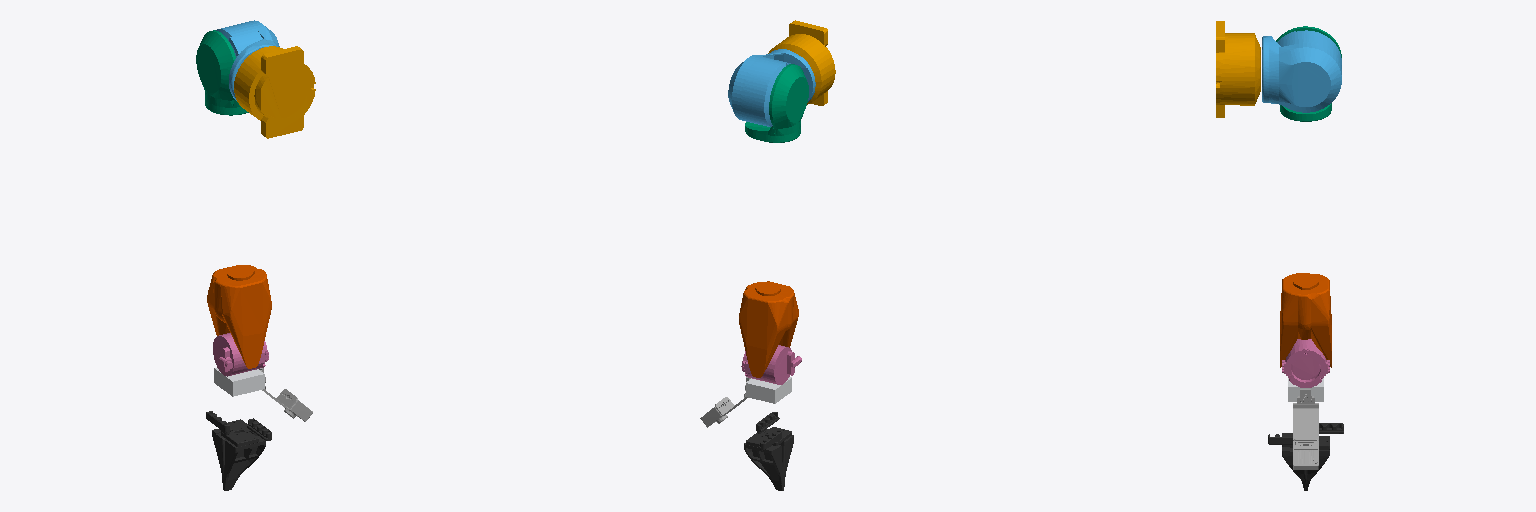
The robot description file, URDF, robot "openarm_v2_left_arm":
<?xml version="1.0"?>
<!-- OpenArm v2.0 left arm (enactic/openarm_description, Apache-2.0; README.md) with the Anvil OpenArm 2.0's joint ranges (J1: Enactic's window) and Anvil's Customizable Gripper. GENERATED by build_urdf.py: do not edit. -->
<robot name="openarm_v2_left_arm">
  <link name="base_link">
    <inertial>
      <origin rpy="0 0 0" xyz="0.00253123748061566 0.0258185540330169 2.70658291858903e-05" />
      <mass value="1.1432284943239561" />
      <inertia ixx="0.00113607806226198" ixy="-3.81487993180929e-07" ixz="1.09161247709715e-08" iyy="0.00159935208714031" iyz="-2.7521421737084e-08" izz="0.000750541980863571" />
    </inertial>
    <visual>
      <origin xyz="0 0 0" rpy="0 0 0" />
      <geometry>
        <mesh filename="../meshes/collision/left_base_link.stl" />
      </geometry>
    </visual>
    <collision>
      <origin xyz="0 0 0" rpy="0 0 0" />
      <geometry>
        <mesh filename="../meshes/collision/left_base_link.stl" />
      </geometry>
    </collision>
  </link>
  <link name="link1">
    <inertial>
      <origin rpy="0 0 0" xyz="0.000900350355624244 0.0444659716892874 2.88441021165683e-05" />
      <mass value="1.1416684646202298" />
      <inertia ixx="0.0010943212038551" ixy="-9.41628673674543e-06" ixz="4.53422182483102e-08" iyy="0.000759199728161993" iyz="-6.66755698859637e-08" izz="0.000670659201019629" />
    </inertial>
    <visual>
      <origin xyz="0 0 0" rpy="0 0 0" />
      <geometry>
        <mesh filename="../meshes/collision/left_link1.stl" />
      </geometry>
    </visual>
    <collision>
      <origin xyz="0 0 0" rpy="0 0 0" />
      <geometry>
        <mesh filename="../meshes/collision/left_link1.stl" />
      </geometry>
    </collision>
  </link>
  <link name="link2">
    <inertial>
      <origin rpy="0 0 0" xyz="-0.0247184924346635 -7.60578399428002e-08 -0.0312643102292087" />
      <mass value="0.2775092746011571" />
      <inertia ixx="0.000153588833784759" ixy="2.94422592188677e-10" ixz="5.21056076779068e-06" iyy="0.000113062180225725" iyz="-3.75816911469744e-10" izz="8.22999351863579e-05" />
    </inertial>
    <visual>
      <origin xyz="0 0 0" rpy="0 0 0" />
      <geometry>
        <mesh filename="../meshes/collision/left_link2.stl" />
      </geometry>
    </visual>
    <collision>
      <origin xyz="0 0 0" rpy="0 0 0" />
      <geometry>
        <mesh filename="../meshes/collision/left_link2.stl" />
      </geometry>
    </collision>
  </link>
  <link name="link3">
    <inertial>
      <origin rpy="0 0 0" xyz="-0.00300861804638783 -0.000514813312550808 -0.109368241429434" />
      <mass value="1.073863338202347" />
      <inertia ixx="0.00128939636591746" ixy="-2.29951046666492e-07" ixz="-6.76161926984358e-05" iyy="0.00114018992179734" iyz="-1.06260802872572e-05" izz="0.000559765478676303" />
    </inertial>
    <visual>
      <origin xyz="0 0 0" rpy="0 0 0" />
      <geometry>
        <mesh filename="../meshes/collision/link3.stl" />
      </geometry>
    </visual>
    <collision>
      <origin xyz="0 0 0" rpy="0 0 0" />
      <geometry>
        <mesh filename="../meshes/collision/link3.stl" />
      </geometry>
    </collision>
  </link>
  <link name="link4">
    <inertial>
      <origin rpy="0 0 0" xyz="-0.00310326243752606 -0.00136538979048502 -0.0574601379354351" />
      <mass value="0.6348534566833373" />
      <inertia ixx="0.0004690036047182" ixy="5.63626910265645e-06" ixz="-1.77877991597693e-06" iyy="0.000433926270522842" iyz="3.41757797773822e-06" izz="0.000245211429759716" />
    </inertial>
    <visual>
      <origin xyz="0 0 0" rpy="0 0 0" />
      <geometry>
        <mesh filename="../meshes/collision/link4.stl" />
      </geometry>
    </visual>
    <collision>
      <origin xyz="0 0 0" rpy="0 0 0" />
      <geometry>
        <mesh filename="../meshes/collision/link4.stl" />
      </geometry>
    </collision>
  </link>
  <link name="link5">
    <inertial>
      <origin rpy="0 0 0" xyz="-0.000737188580130584 0.000412406544351845 -0.047093829077211" />
      <mass value="0.6156588026168502" />
      <inertia ixx="0.000279653368752989" ixy="-3.31745289972445e-06" ixz="7.68097311403736e-07" iyy="0.000334599623120095" iyz="1.49934409279756e-07" izz="0.000176662464388138" />
    </inertial>
    <visual>
      <origin xyz="0 0 0" rpy="0 0 0" />
      <geometry>
        <mesh filename="../meshes/collision/left_link5.stl" />
      </geometry>
    </visual>
    <collision>
      <origin xyz="0 0 0" rpy="0 0 0" />
      <geometry>
        <mesh filename="../meshes/collision/left_link5.stl" />
      </geometry>
    </collision>
  </link>
  <link name="link6">
    <inertial>
      <origin rpy="0 0 0" xyz="2.27438423593244e-05 -0.00068649602098908 5.44000494765995e-05" />
      <mass value="0.475202773187987" />
      <inertia ixx="0.000179275941446964" ixy="-6.58439346712228e-08" ixz="-3.37101167120887e-08" iyy="0.000136247512758587" iyz="-3.32253600295544e-08" izz="0.000135340695937386" />
    </inertial>
    <visual>
      <origin xyz="0 0 0" rpy="0 0 0" />
      <geometry>
        <mesh filename="../meshes/collision/left_link6.stl" />
      </geometry>
    </visual>
    <collision>
      <origin xyz="0 0 0" rpy="0 0 0" />
      <geometry>
        <mesh filename="../meshes/collision/left_link6.stl" />
      </geometry>
    </collision>
  </link>
  <link name="link7">
    <inertial>
      <origin xyz="0 0 0" rpy="0 0 0" />
      <mass value="0.001" />
      <inertia ixx="1e-07" ixy="0" ixz="0" iyy="1e-07" iyz="0" izz="1e-07" />
    </inertial>
    <visual name="flange_adapter">
      <origin xyz="0 0 -0.0398" rpy="0 0 0" />
      <geometry>
        <box size="0.05 0.05 0.0226" />
      </geometry>
      <material name="flange_adapter">
        <color rgba="0.88 0.89 0.9 1" />
      </material>
    </visual>
    <collision name="flange_adapter">
      <origin xyz="0 0 -0.0398" rpy="0 0 0" />
      <geometry>
        <box size="0.05 0.05 0.0226" />
      </geometry>
    </collision>
  </link>
  <joint name="joint1" type="revolute">
    <origin xyz="0 0.0625 0" rpy="0 0 0" />
    <parent link="base_link" />
    <child link="link1" />
    <axis xyz="0 1 0" />
    <limit lower="-3.4907" upper="1.3963" effort="40" velocity="10.47" />
  </joint>
  <joint name="joint2" type="revolute">
    <origin xyz="0 0.0600000000000001 0" rpy="0 0 0" />
    <parent link="link1" />
    <child link="link2" />
    <axis xyz="-1 0 0" />
    <limit lower="-3.3161" upper="0.1745" effort="40" velocity="10.47" />
  </joint>
  <joint name="joint3" type="revolute">
    <origin xyz="0 0 -0.0662500000000008" rpy="0 0 0" />
    <parent link="link2" />
    <child link="link3" />
    <axis xyz="0 0 -1" />
    <limit lower="-1.570796" upper="1.570796" effort="27" velocity="3.77" />
  </joint>
  <joint name="joint4" type="revolute">
    <origin xyz="0 0 -0.15375" rpy="0 0 0" />
    <parent link="link3" />
    <child link="link4" />
    <axis xyz="0 -1 0" />
    <limit lower="0" upper="2.443461" effort="27" velocity="3.77" />
  </joint>
  <joint name="joint5" type="revolute">
    <origin xyz="0 0 -0.0955000000000005" rpy="0 0 0" />
    <parent link="link4" />
    <child link="link5" />
    <axis xyz="0 0 -1" />
    <limit lower="-1.570796" upper="1.570796" effort="7" velocity="12.57" />
  </joint>
  <joint name="joint6" type="revolute">
    <origin xyz="0 0 -0.120499999999998" rpy="0 0 0" />
    <parent link="link5" />
    <child link="link6" />
    <axis xyz="0 -1 0" />
    <limit lower="-0.785398" upper="1.22173" effort="7" velocity="12.57" />
  </joint>
  <joint name="joint7" type="revolute">
    <origin xyz="0 0 0" rpy="0 0 0" />
    <parent link="link6" />
    <child link="link7" />
    <axis xyz="1 0 0" />
    <limit lower="-1.570796" upper="1.570796" effort="7" velocity="12.57" />
  </joint>
  <joint name="end_joint" type="fixed">
    <origin xyz="0 0 -0.2026" rpy="0 1.57079633 0" />
    <parent link="link7" />
    <child link="end_link" />
  </joint>
  <link name="end_link">
    <inertial>
      <origin xyz="-0.0725 -0.002 0" rpy="0 0 0" />
      <mass value="0.7" />
      <inertia ixx="0.0002521" ixy="-1e-06" ixz="1e-06" iyy="1.763e-05" iyz="-1e-06" izz="0.0002473" />
    </inertial>
    <visual name="left_hand_anodized_black_visual">
      <origin xyz="-0.1025 0 0" rpy="-3.14159265 -1.57079633 0" />
      <geometry>
        <mesh filename="../gripper/meshes/hand_anodized_black.obj" />
      </geometry>
      <material name="anodized_black">
        <color rgba="0.11 0.11 0.115 1" />
      </material>
    </visual>
    <visual name="left_hand_camera_gray_visual">
      <origin xyz="-0.1025 0 0" rpy="-3.14159265 -1.57079633 0" />
      <geometry>
        <mesh filename="../gripper/meshes/hand_camera_gray.stl" />
      </geometry>
      <material name="gray_175">
        <color rgba="0.686275 0.686275 0.686275 1" />
      </material>
    </visual>
    <collision name="end_link_gripper_housing">
      <origin xyz="-0.13085 -0.0011 0.0002" rpy="0 0 0" />
      <geometry>
        <box size="0.0417 0.057 0.057" />
      </geometry>
    </collision>
    <collision name="end_link_gripper_guide">
      <origin xyz="-0.09755 -0.0011 0.0002" rpy="0 0 0" />
      <geometry>
        <box size="0.0249 0.108 0.057" />
      </geometry>
    </collision>
    <collision name="end_link_wrist_camera_arm">
      <origin xyz="-0.1405 0 0.0455" rpy="0 0 0" />
      <geometry>
        <box size="0.067 0.038 0.041" />
      </geometry>
    </collision>
    <collision name="end_link_wrist_camera">
      <origin xyz="-0.1025 0 0.0865" rpy="0 0 0" />
      <geometry>
        <box size="0.041 0.038 0.041" />
      </geometry>
    </collision>
  </link>
  <link name="finger_left_link">
    <inertial>
      <origin xyz="-0.0655315 0.02302 0.0064528" rpy="0 0 0" />
      <mass value="0.03602545343277134" />
      <inertia ixx="9.927e-06" ixy="3.509e-06" ixz="2.792e-06" iyy="1.976e-05" iyz="-7.351e-07" izz="1.444e-05" />
    </inertial>
    <visual name="left_right_finger_dark_visual">
      <origin xyz="-0.0875 0.006 0" rpy="-3.14159265 -1.57079633 0" />
      <geometry>
        <mesh filename="../gripper/meshes/right_finger_dark.stl" />
      </geometry>
      <material name="dark_60">
        <color rgba="0.235294 0.235294 0.235294 1" />
      </material>
    </visual>
    <visual name="left_right_finger_fine_tip_dark_visual">
      <origin xyz="-0.0875 0.006 0" rpy="-3.14159265 -1.57079633 0" />
      <geometry>
        <mesh filename="../gripper/meshes/right_finger_fine_tip_dark.stl" />
      </geometry>
      <material name="dark_60">
        <color rgba="0.235294 0.235294 0.235294 1" />
      </material>
    </visual>
    <collision name="finger_left_link_jaw_root">
      <origin xyz="-0.0885 0.01625 0.00495" rpy="0 0 0" />
      <geometry>
        <box size="0.0202 0.0325 0.0355" />
      </geometry>
    </collision>
    <collision name="finger_left_link_jaw">
      <origin xyz="-0.02 0.0045 -0.0055" rpy="0 0 0" />
      <geometry>
        <box size="0.04 0.009 0.0386" />
      </geometry>
    </collision>
    <collision name="finger_left_link_jaw_back">
      <origin xyz="-0.0592 0.01685 -0.0003" rpy="0 0 0" />
      <geometry>
        <box size="0.0384 0.0317 0.049" />
      </geometry>
    </collision>
  </link>
  <link name="finger_right_link">
    <inertial>
      <origin xyz="-0.0655315 -0.02302 0.0064528" rpy="0 0 0" />
      <mass value="0.03602545343277134" />
      <inertia ixx="9.827e-06" ixy="-3.51e-06" ixz="2.43e-06" iyy="1.966e-05" iyz="7.397e-07" izz="1.445e-05" />
    </inertial>
    <visual name="left_left_finger_dark_visual">
      <origin xyz="-0.0875 -0.006 0" rpy="-3.14159265 -1.57079633 0" />
      <geometry>
        <mesh filename="../gripper/meshes/left_finger_dark.stl" />
      </geometry>
      <material name="dark_60">
        <color rgba="0.235294 0.235294 0.235294 1" />
      </material>
    </visual>
    <visual name="left_left_finger_fine_tip_dark_visual">
      <origin xyz="-0.0875 -0.006 0" rpy="-3.14159265 -1.57079633 0" />
      <geometry>
        <mesh filename="../gripper/meshes/left_finger_fine_tip_dark.stl" />
      </geometry>
      <material name="dark_60">
        <color rgba="0.235294 0.235294 0.235294 1" />
      </material>
    </visual>
    <collision name="finger_right_link_jaw_root">
      <origin xyz="-0.0885 -0.01625 0.00495" rpy="0 0 0" />
      <geometry>
        <box size="0.0202 0.0325 0.0355" />
      </geometry>
    </collision>
    <collision name="finger_right_link_jaw">
      <origin xyz="-0.02 -0.0045 -0.0055" rpy="0 0 0" />
      <geometry>
        <box size="0.04 0.009 0.0386" />
      </geometry>
    </collision>
    <collision name="finger_right_link_jaw_back">
      <origin xyz="-0.0592 -0.01685 -0.0003" rpy="0 0 0" />
      <geometry>
        <box size="0.0384 0.0317 0.049" />
      </geometry>
    </collision>
  </link>
  <joint name="finger_left" type="prismatic">
    <origin xyz="0 0 0" rpy="0 0 0" />
    <parent link="end_link" />
    <child link="finger_left_link" />
    <axis xyz="0 1 0" />
    <limit lower="0" upper="0.05" effort="10" velocity="1" />
  </joint>
  <joint name="finger_right" type="prismatic">
    <origin xyz="0 0 0" rpy="0 0 0" />
    <parent link="end_link" />
    <child link="finger_right_link" />
    <axis xyz="0 1 0" />
    <limit lower="-0.05" upper="0" effort="10" velocity="1" />
    <mimic joint="finger_left" multiplier="-1" offset="0" />
  </joint>
</robot>

--- What the picture shows (computed from the rendered views, not written in the file) ---
The picture shows the robot from 3 angles, left to right: view 1: azimuth 30°, elevation 25°; view 2: azimuth 150°, elevation 25°; view 3: azimuth 270°, elevation 25°; orthographic projection.
Robot: openarm_v2_left_arm — 11 links, 10 joints (7 revolute, 2 prismatic, 1 fixed); root link base_link; default pose: every joint at zero.
Links seen in each view (by area): view 1: base_link, link5, link2, finger_right_link, link1, link6, link7, finger_left_link, end_link; view 2: link5, link1, link2, base_link, finger_left_link, link6, link7, finger_right_link, end_link; view 3: link1, link5, base_link, end_link, link6, link2, finger_left_link, finger_right_link.
Boxes of the visible links, left/top/right/bottom form: base_link: left=234, top=46, right=315, bottom=138; link5: left=207, top=265, right=271, bottom=368; link2: left=196, top=30, right=248, bottom=115; finger_right_link: left=206, top=411, right=265, bottom=490; link1: left=216, top=20, right=279, bottom=100; link6: left=213, top=333, right=268, bottom=376; link7: left=214, top=368, right=264, bottom=396; finger_left_link: left=212, top=418, right=271, bottom=489; end_link: left=259, top=368, right=312, bottom=421; link5: left=739, top=281, right=798, bottom=377; link1: left=728, top=49, right=815, bottom=126; link2: left=745, top=64, right=808, bottom=142; base_link: left=768, top=20, right=835, bottom=105; finger_left_link: left=744, top=412, right=782, bottom=490; link6: left=741, top=345, right=801, bottom=384; link7: left=746, top=377, right=791, bottom=403; finger_right_link: left=759, top=427, right=793, bottom=490; end_link: left=700, top=377, right=750, bottom=427; link1: left=1262, top=30, right=1341, bottom=112; link5: left=1280, top=273, right=1331, bottom=367; base_link: left=1216, top=21, right=1260, bottom=117; end_link: left=1293, top=389, right=1318, bottom=469; link6: left=1282, top=339, right=1329, bottom=387; link2: left=1276, top=26, right=1341, bottom=121; finger_left_link: left=1268, top=434, right=1329, bottom=490; finger_right_link: left=1282, top=423, right=1343, bottom=490.
Size in the robot's own frame: 0.1553 by 0.1746 by 0.6998 metres.
10 mesh visuals loaded from 13 distinct referenced files (10 binary STL); not drawn: 3 (reference not matched to a file when rendering).
